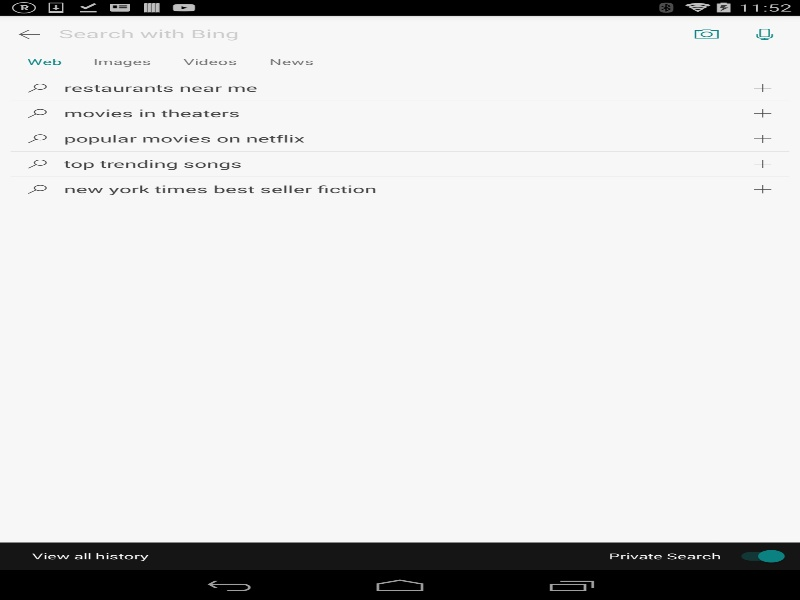Button: (21, 542, 608, 570), (77, 48, 167, 75), (167, 48, 253, 75), (253, 48, 330, 75), (10, 48, 77, 75), (677, 20, 736, 48), (0, 20, 58, 48), (736, 20, 794, 48), (736, 75, 789, 100), (736, 100, 789, 125), (736, 126, 789, 151), (736, 151, 789, 176), (736, 176, 789, 201)
Input: (58, 20, 677, 46)
